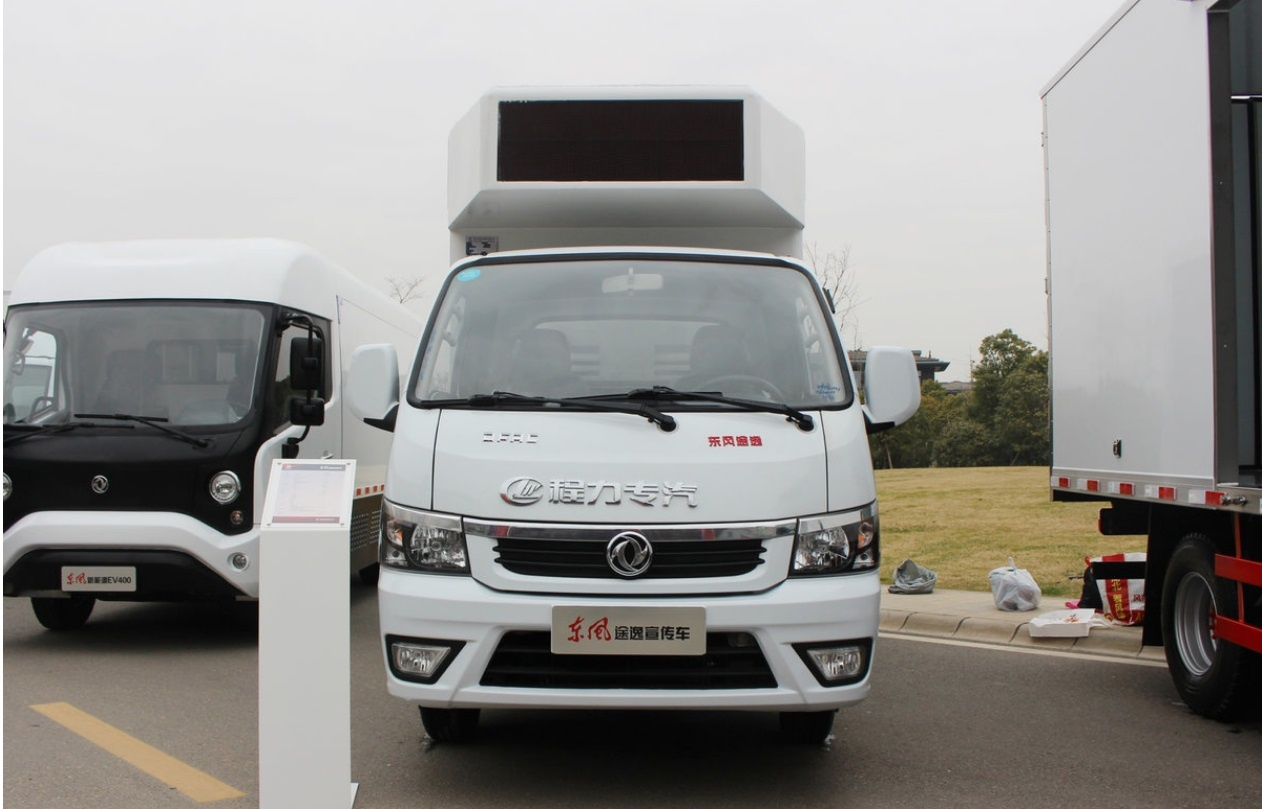minibus: (355, 237, 920, 761)
